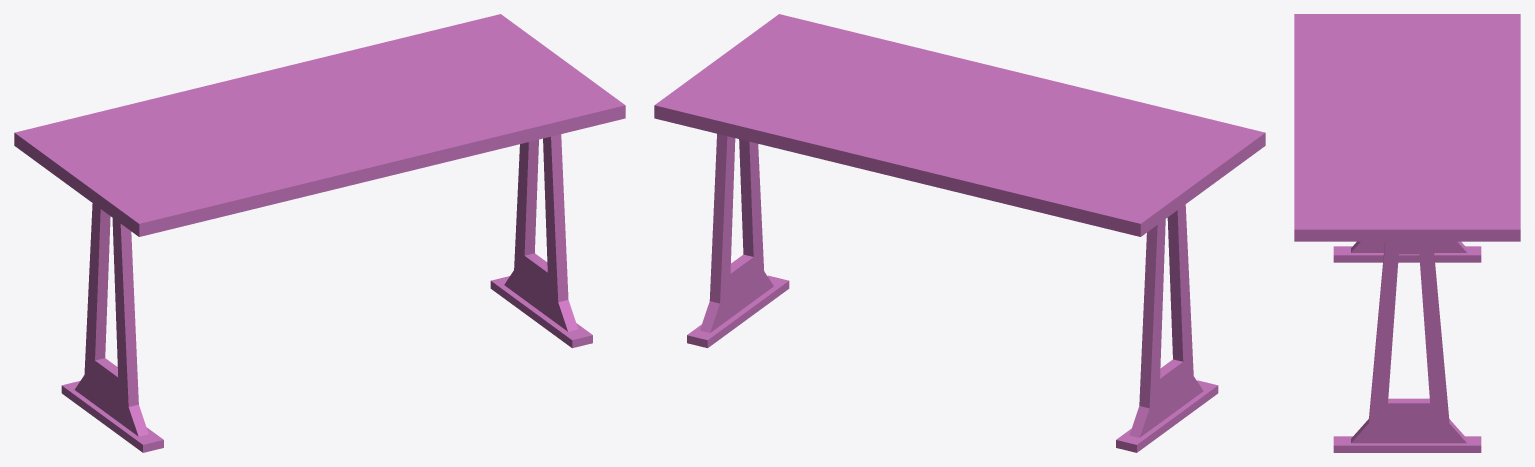
Rendered from Table_Wooden.fbx.
3 views of the same model, side by side, from view 1: azimuth 30°, elevation 25°; view 2: azimuth 150°, elevation 25°; view 3: azimuth 270°, elevation 25° (orthographic). The views are drawn at different scales.
Parts seen in each view (by area): view 1: Table_Wooden; view 2: Table_Wooden; view 3: Table_Wooden.
Part boxes in pixels (x1,y1,x2,y2): Table_Wooden: (14,14,625,452); Table_Wooden: (654,14,1265,452); Table_Wooden: (1294,14,1520,452).
Bounding box in the file's own units: 203 × 99.98 × 90.
